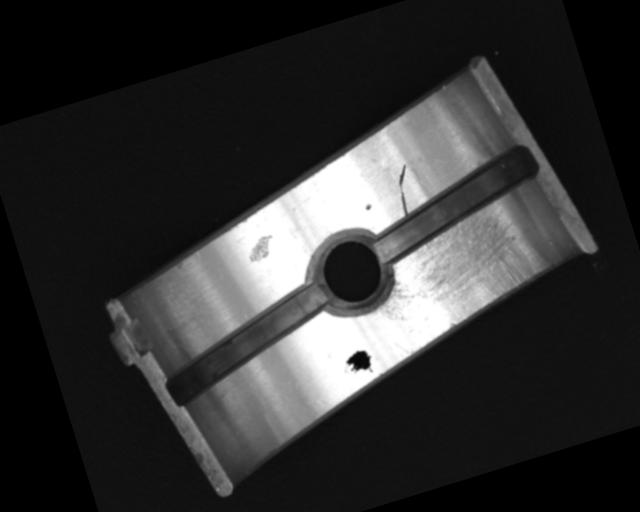blot: (339, 346, 376, 380)
bruise: (244, 233, 278, 264), (363, 201, 372, 211)
gap: (356, 140, 553, 267), (150, 279, 344, 407)
hole: (300, 221, 401, 324)
nick: (388, 162, 420, 216)
scratch: (352, 191, 563, 357)
